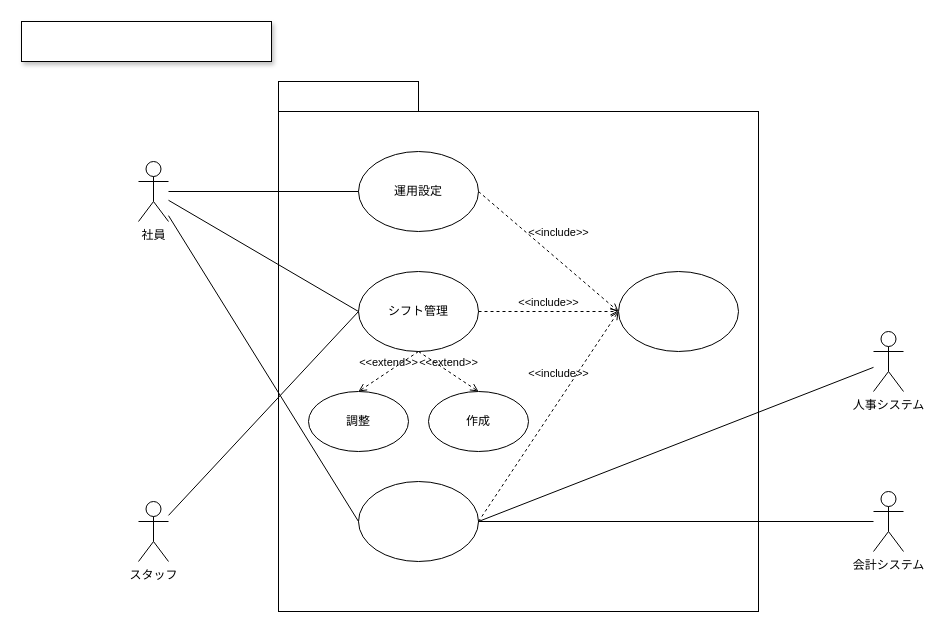
The diagram is 942 pixels wide and 629 high, and some of its shapes have lost their labels. Each missing label, with the centre of its shape:
"コスト管理" belongs at (x=418, y=521).
"システム概要図" belongs at (x=147, y=42).
"シフト管理システム" belongs at (x=348, y=96).
"ログイン" belongs at (x=678, y=311).
